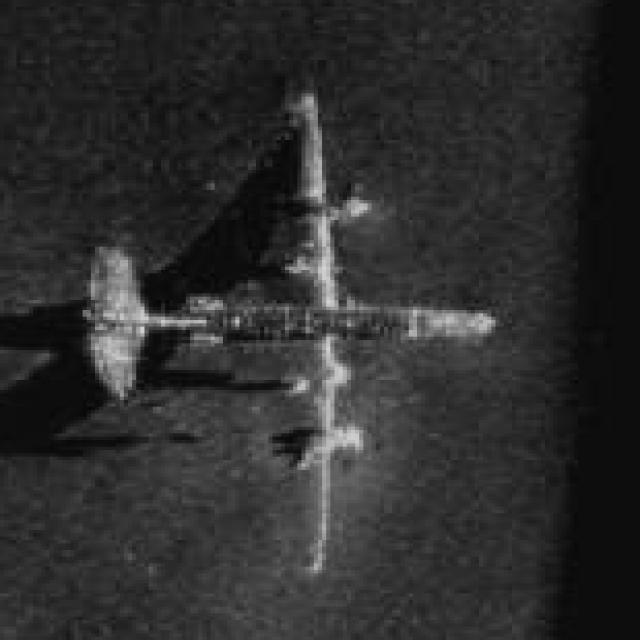plane: (54, 76, 528, 566)
